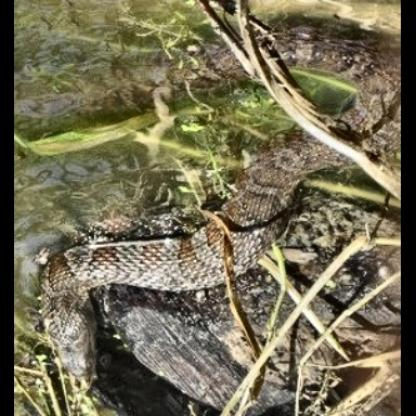Snake: (30, 7, 397, 408)
